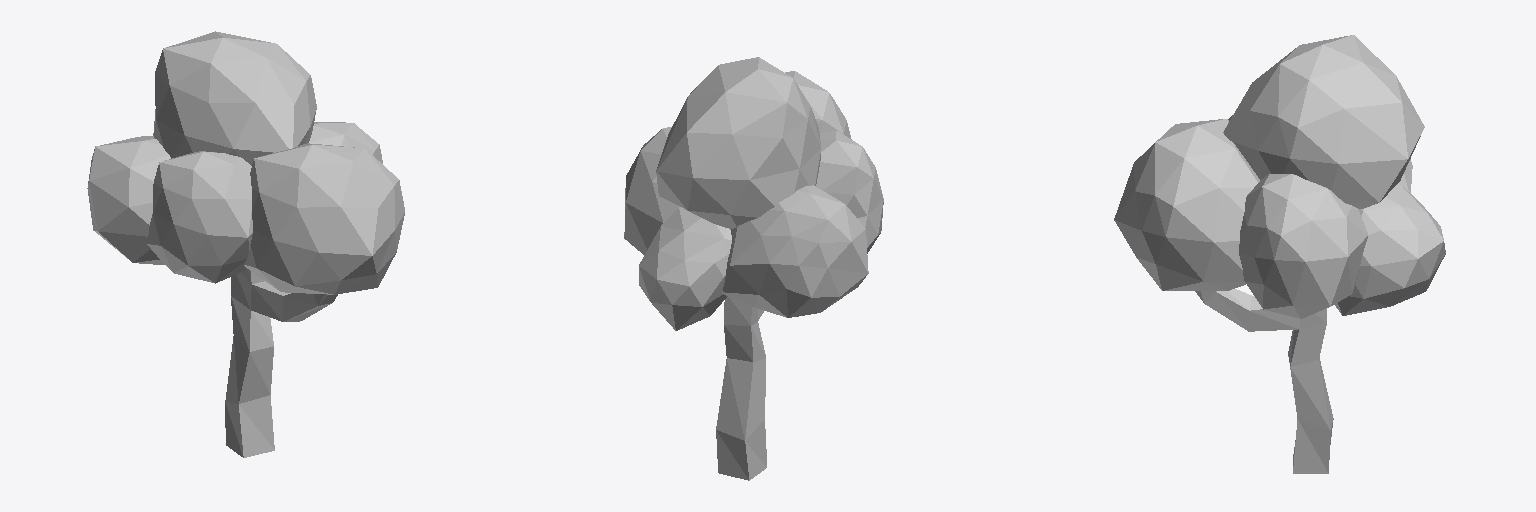
The model's file is Trees.obj.
The picture shows the model from 3 angles: view 1: azimuth 30°, elevation 25°; view 2: azimuth 150°, elevation 25°; view 3: azimuth 270°, elevation 25°; orthographic projection.
Visible parts, largest first — view 1: Tree_6_Cube.031; view 2: Tree_6_Cube.031; view 3: Tree_6_Cube.031.
Boxes of the visible parts, box(x1,y1,x2,y2) form: Tree_6_Cube.031: box(87, 31, 404, 457); Tree_6_Cube.031: box(624, 57, 883, 480); Tree_6_Cube.031: box(1114, 35, 1445, 473).
Bounding box in the file's own units: 4.3 × 6.52 × 4.77.